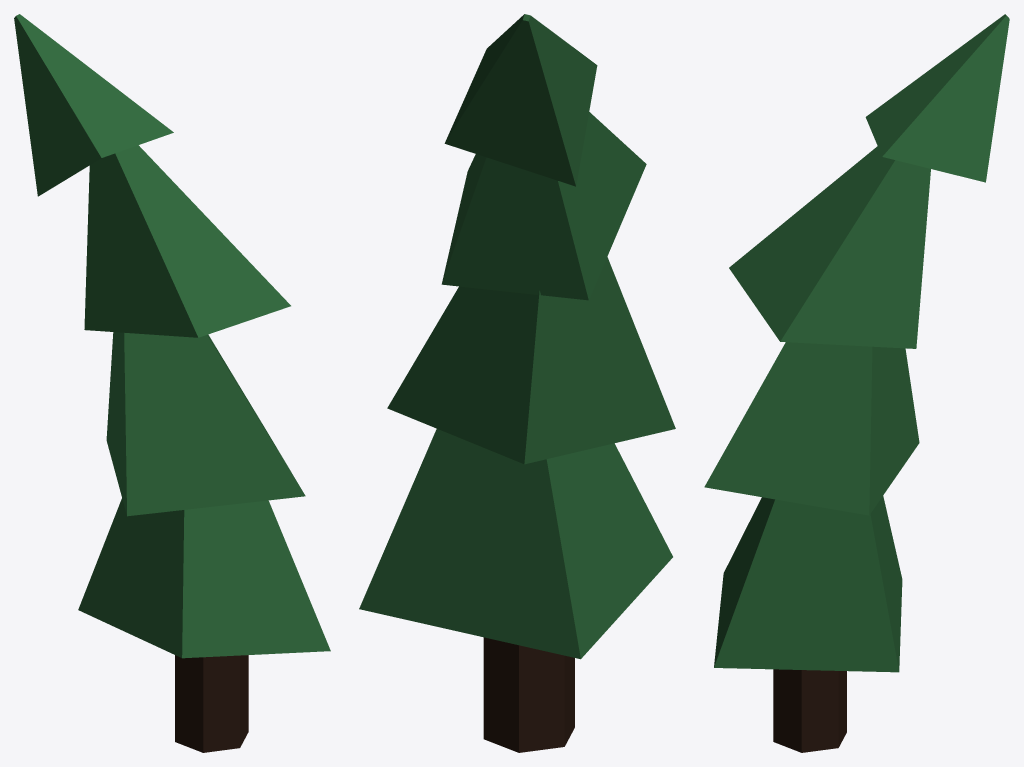
Rendered from tree3.fbx.
The picture shows the model from 3 angles, left to right: view 1: azimuth 30°, elevation 25°; view 2: azimuth 150°, elevation 25°; view 3: azimuth 270°, elevation 25°; orthographic projection. The views are drawn at different scales.
Parts seen in each view (by area): view 1: tree3; view 2: tree3; view 3: tree3.
Part boxes in pixels (box(x1,y1,x2,y2)): tree3: box(14, 14, 330, 752); tree3: box(359, 14, 675, 752); tree3: box(704, 14, 1009, 752).
Size of the model in its own units: 170 by 553 by 227.
